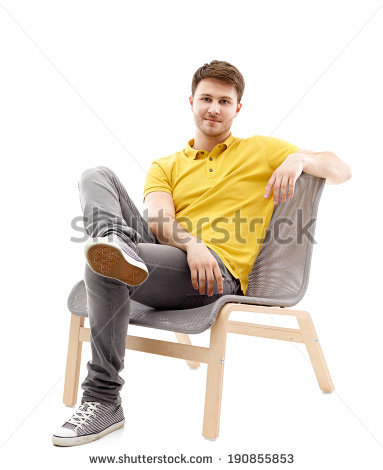chairs: (60, 155, 336, 442)
